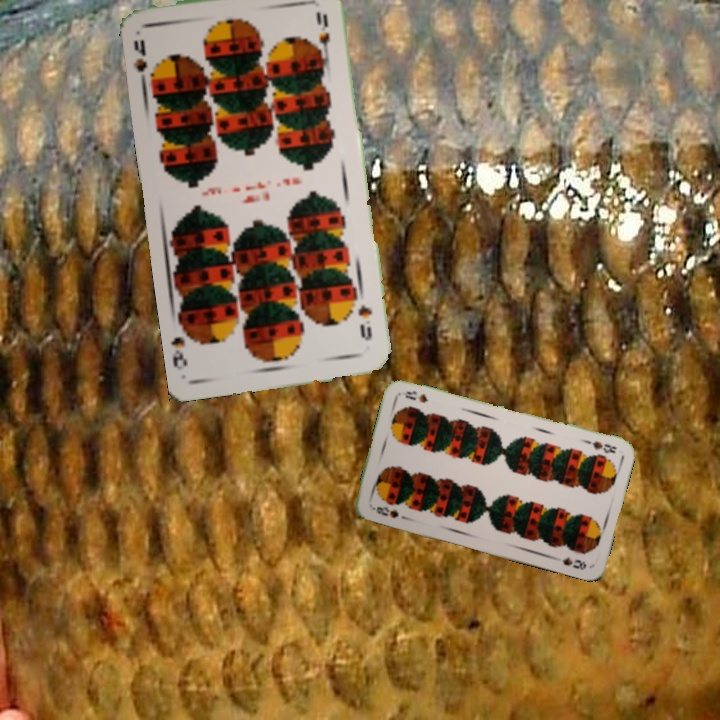S8: (581, 436, 620, 456), (368, 502, 401, 521)
S9: (129, 35, 160, 88), (354, 301, 375, 343)
